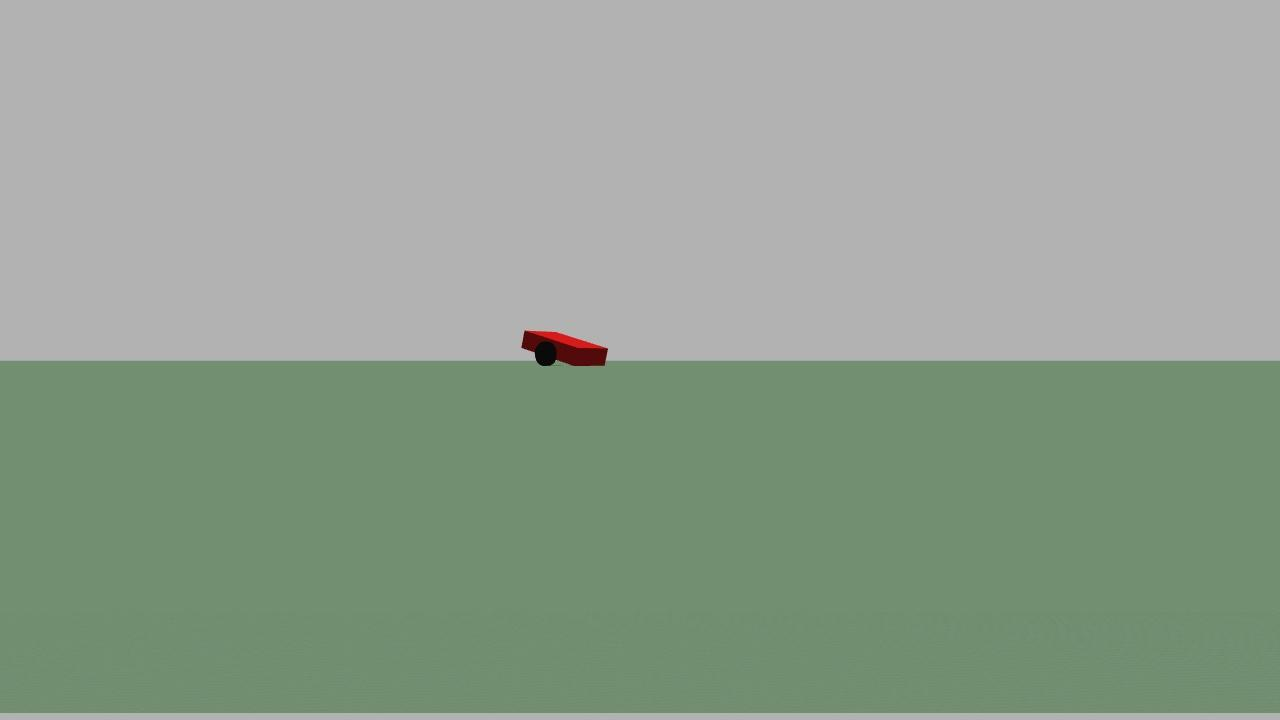ground_vehicle: (515, 317, 613, 377)
